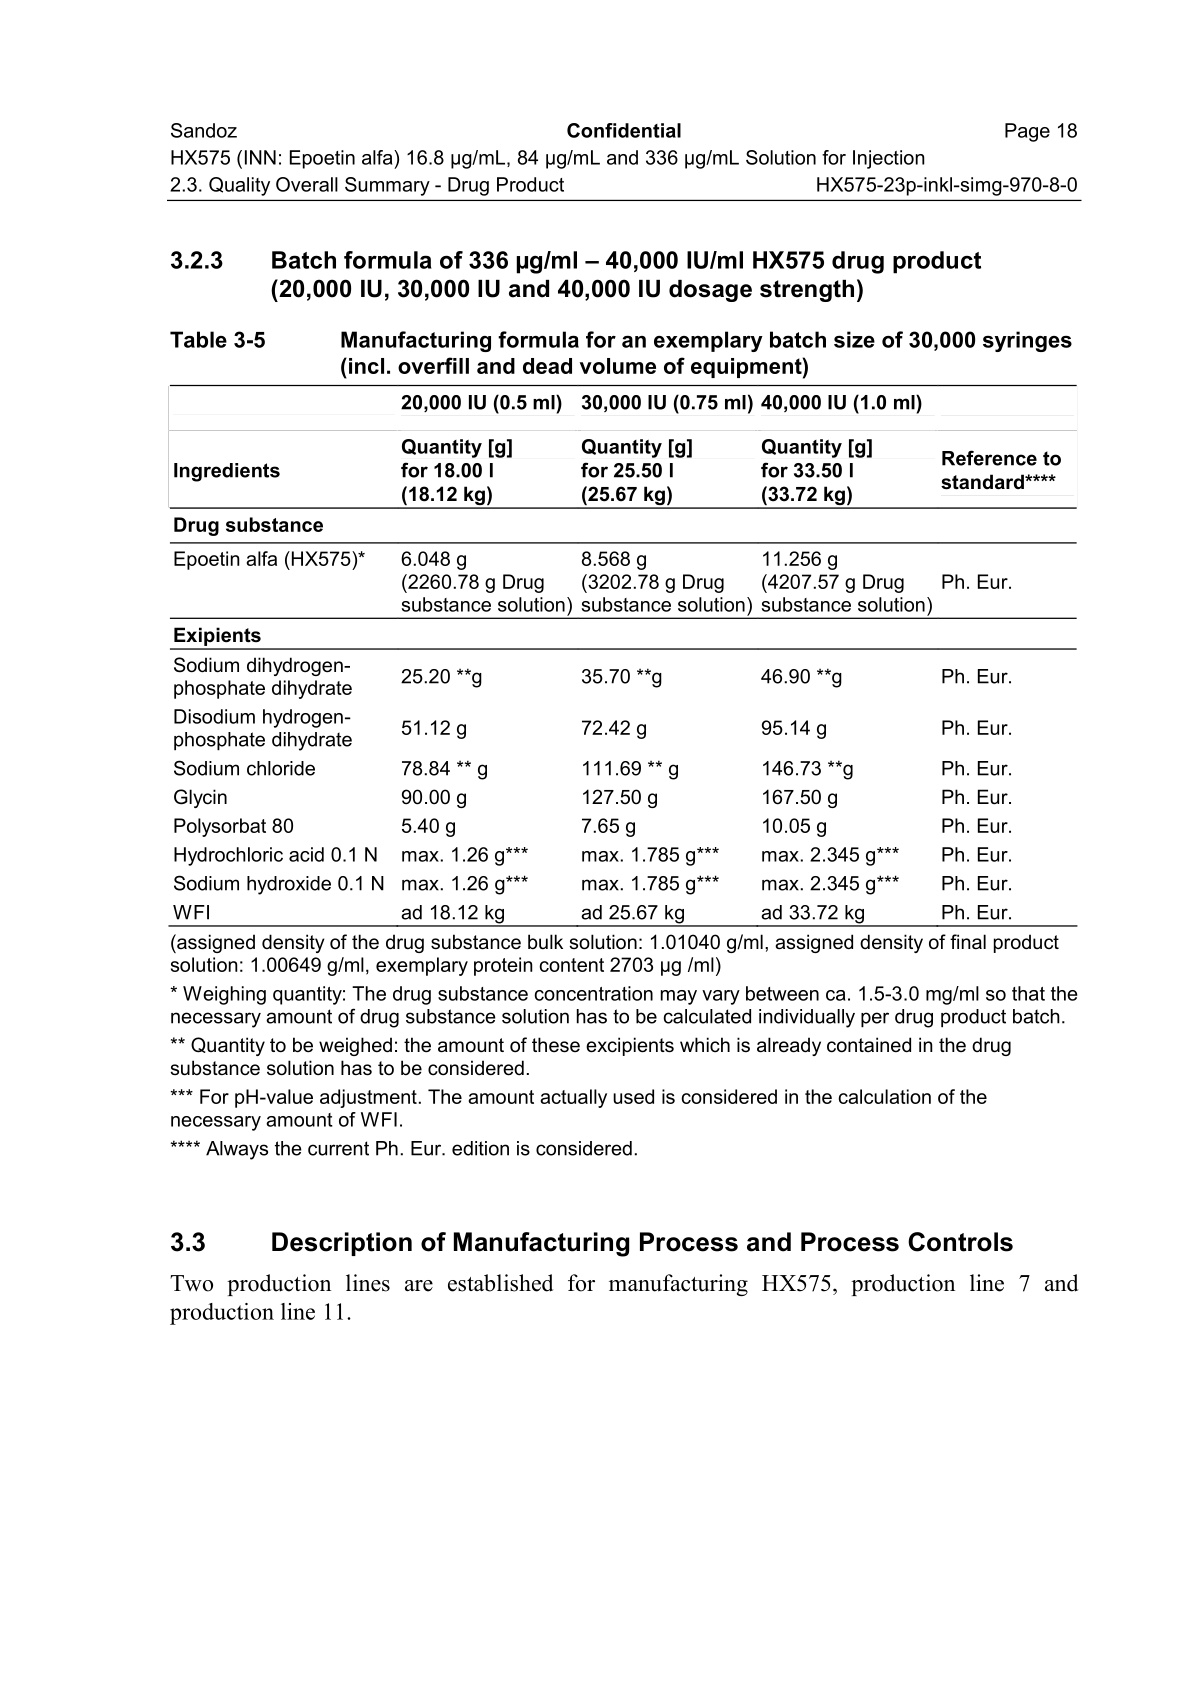partial_lined: (169, 646, 1075, 928), (168, 383, 1078, 620)
